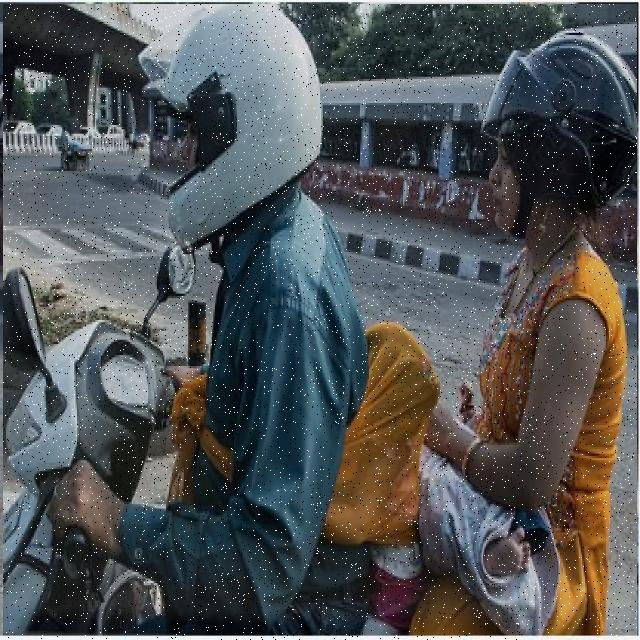With Helmet: (3, 4, 637, 640)
